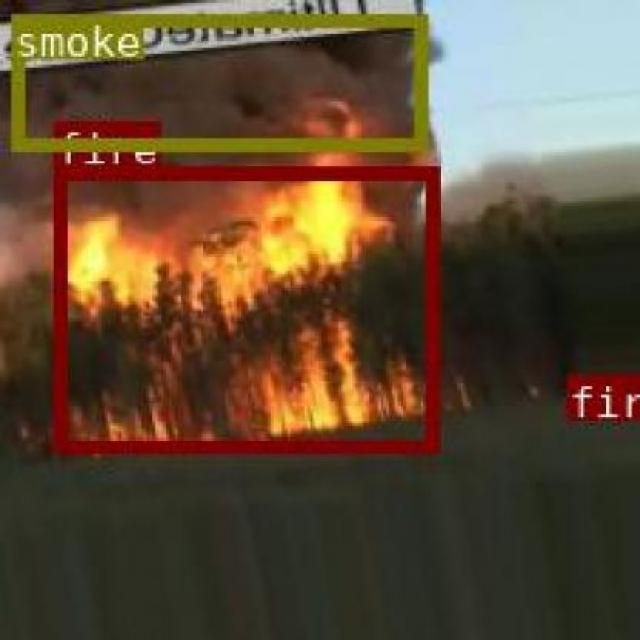Fire: (53, 164, 436, 452), (564, 374, 634, 404)
Smoke: (9, 13, 423, 149)
